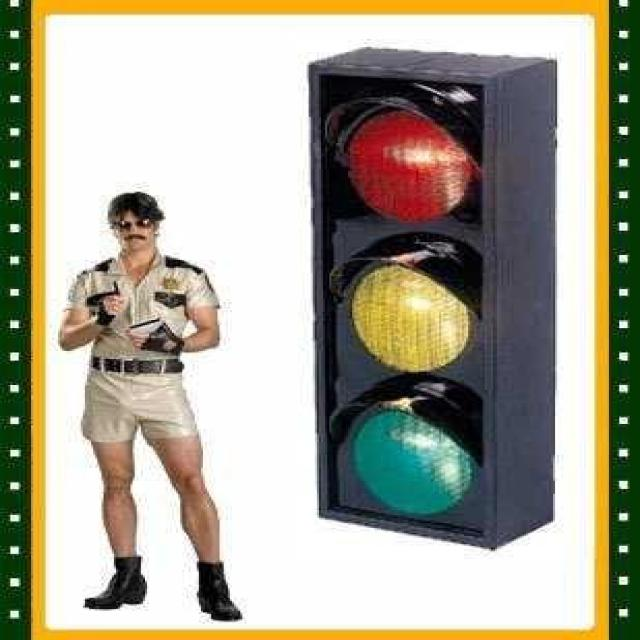Traffic Light -Green-: (316, 393, 506, 535)
Traffic Light -Red-: (304, 59, 511, 226)
Traffic Light -Yellow-: (311, 238, 499, 382)
